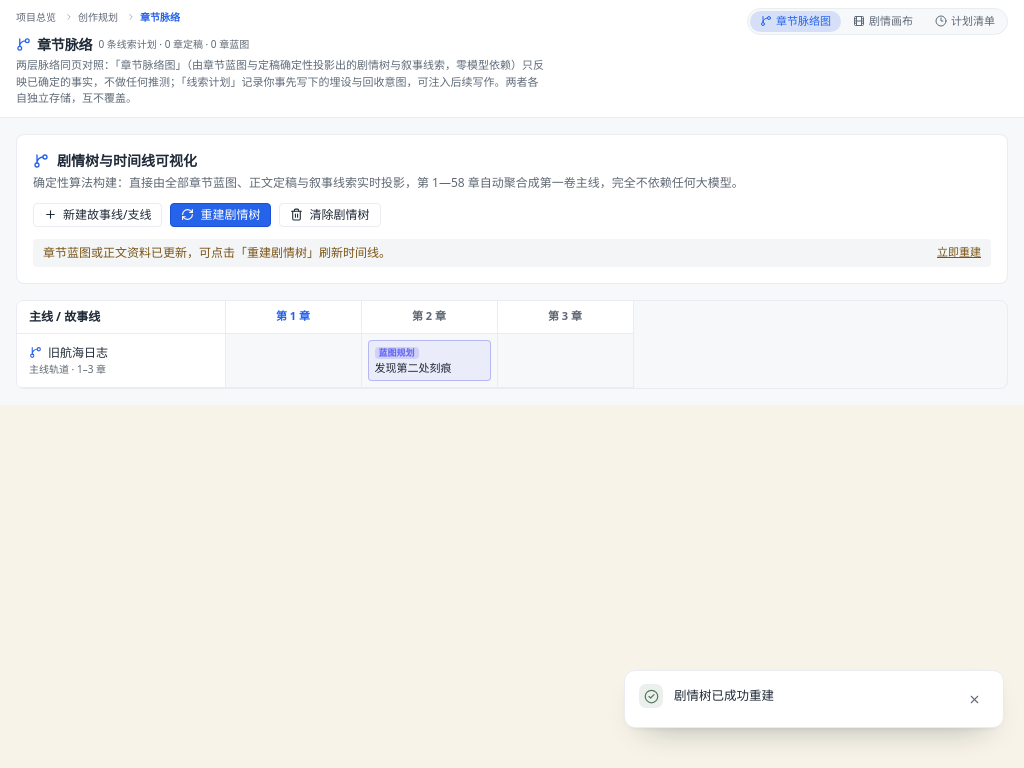
Test: NarrativeThreadEditor › explains a rejected snapshot save in zh-CN without replacing the snapshot
This screenshot has width=1024, height=768.
Click the button "重建剧情树".
click(221, 214)  # box top-left (170, 202), bottom-right (272, 226)
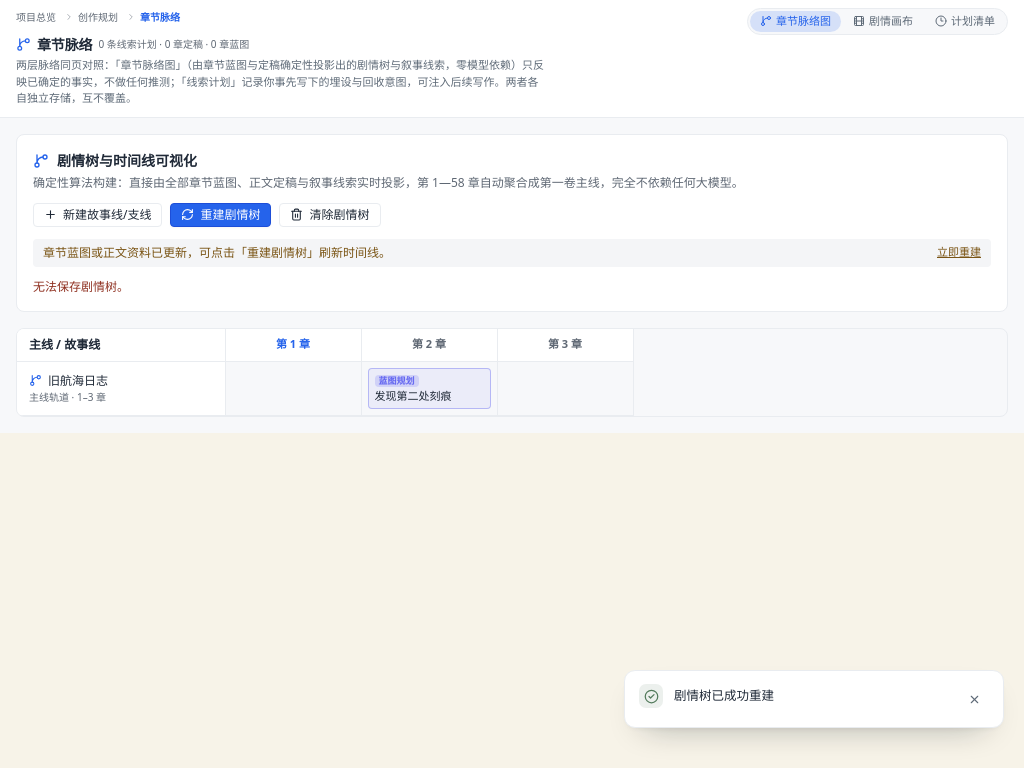
Expected: the text "旧航海日志" is shown, top-left (48, 373), bottom-right (108, 389)
Expected: the text "无法保存剧情树。" is shown, top-left (33, 278), bottom-right (129, 294)
